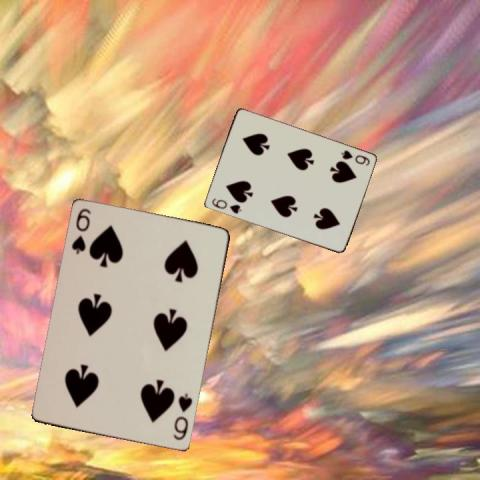6s: (170, 391, 194, 442), (68, 205, 92, 256), (338, 148, 371, 168), (209, 196, 242, 215)
